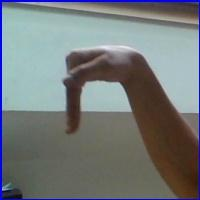del: (46, 39, 179, 141)
